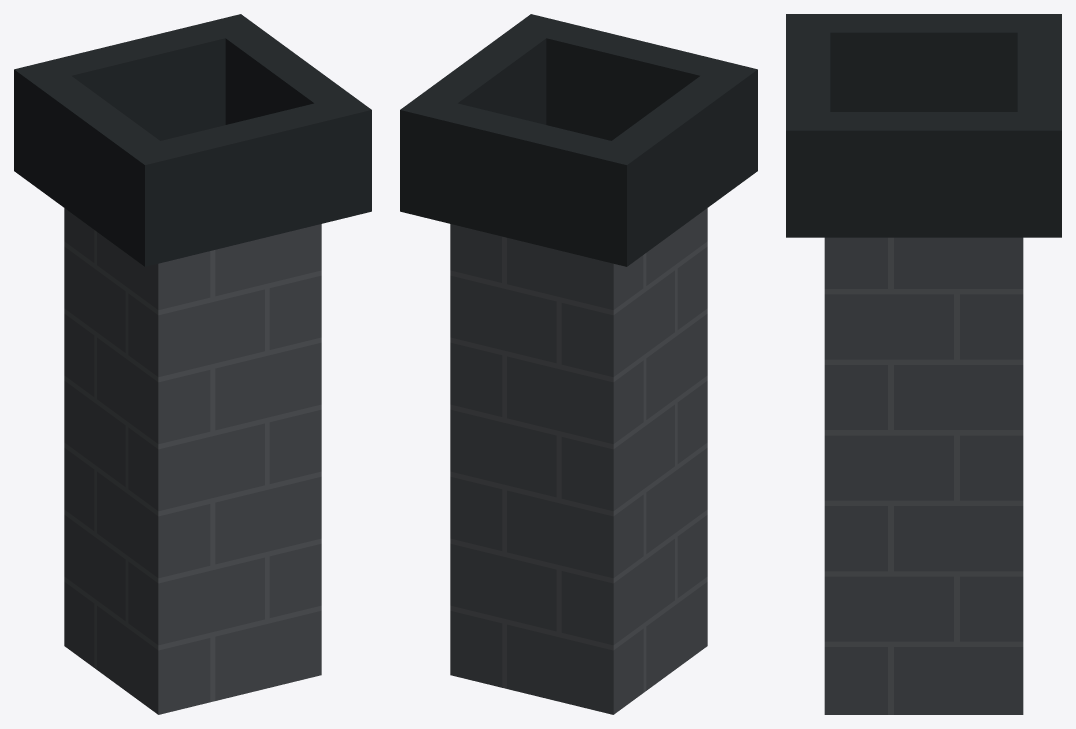
The model's file is Chimney2_C4.fbx.
The picture shows the model from 3 angles, left to right: view 1: azimuth 30°, elevation 25°; view 2: azimuth 150°, elevation 25°; view 3: azimuth 270°, elevation 25°; orthographic projection. The views are drawn at different scales.
Visible parts, largest first — view 1: Chimney2_C4; view 2: Chimney2_C4; view 3: Chimney2_C4.
Boxes of the visible parts, <box> form: Chimney2_C4: <box>14,14,371,714</box>; Chimney2_C4: <box>400,14,757,714</box>; Chimney2_C4: <box>786,14,1061,714</box>.
Bounding box in the file's own units: 55.59 × 134 × 55.59.
